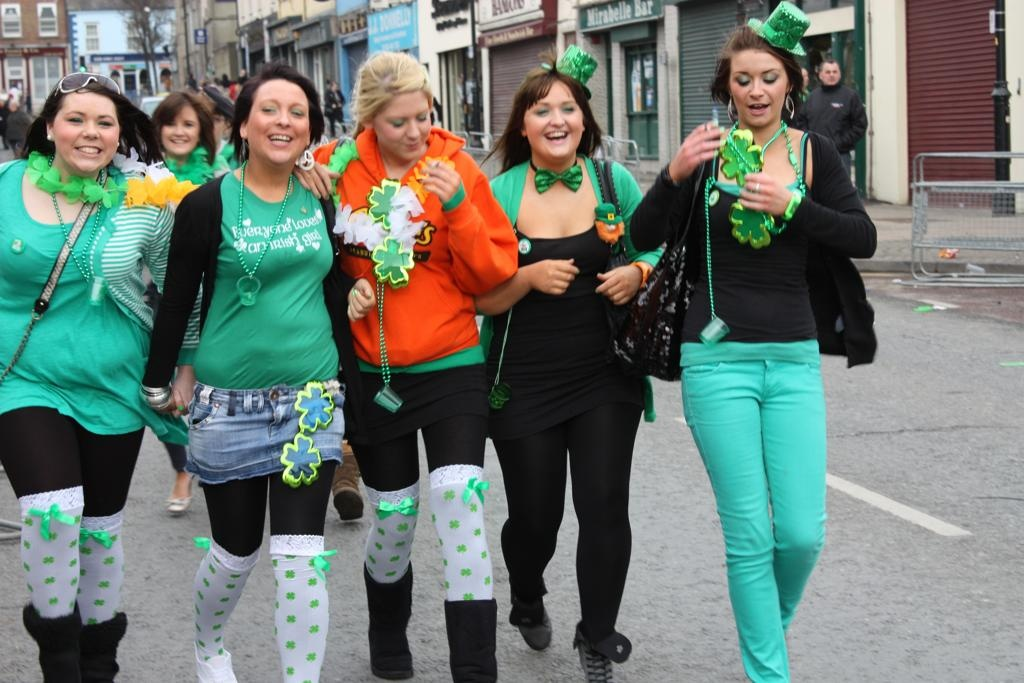human_face: (52, 93, 120, 170), (246, 82, 308, 162), (525, 84, 583, 156), (730, 54, 786, 126), (371, 91, 431, 158), (161, 109, 199, 153), (199, 109, 225, 147), (822, 64, 840, 84)
